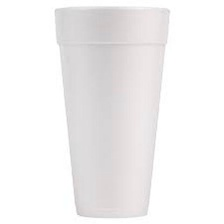paper_cup: (47, 0, 174, 224)
